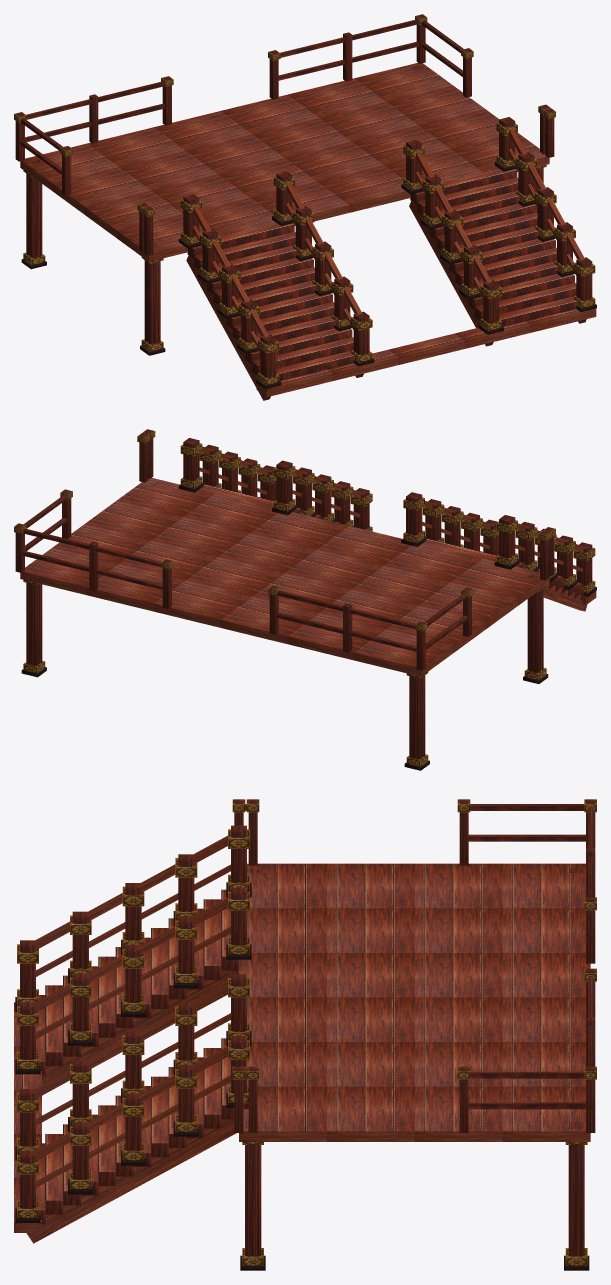
File: DoubleStaresBase.fbx
3 renders of one model, top to bottom at view 1: azimuth 30°, elevation 25°; view 2: azimuth 150°, elevation 25°; view 3: azimuth 270°, elevation 25°, orthographic. The views are drawn at different scales.
Parts seen in each view (by area): view 1: Retopo_DoubleStaresBase.001; view 2: Retopo_DoubleStaresBase.001; view 3: Retopo_DoubleStaresBase.001.
Boxes of the visible parts, x1=… form: Retopo_DoubleStaresBase.001: x1=14, y1=14, x2=596, y2=400; Retopo_DoubleStaresBase.001: x1=14, y1=429, x2=596, y2=770; Retopo_DoubleStaresBase.001: x1=14, y1=799, x2=596, y2=1270.
Bounding box in the file's own units: 918 × 319 × 829.
